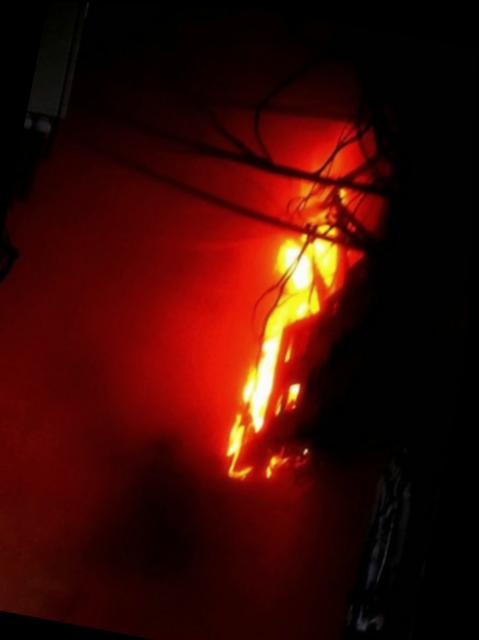fire: (215, 154, 383, 497)
